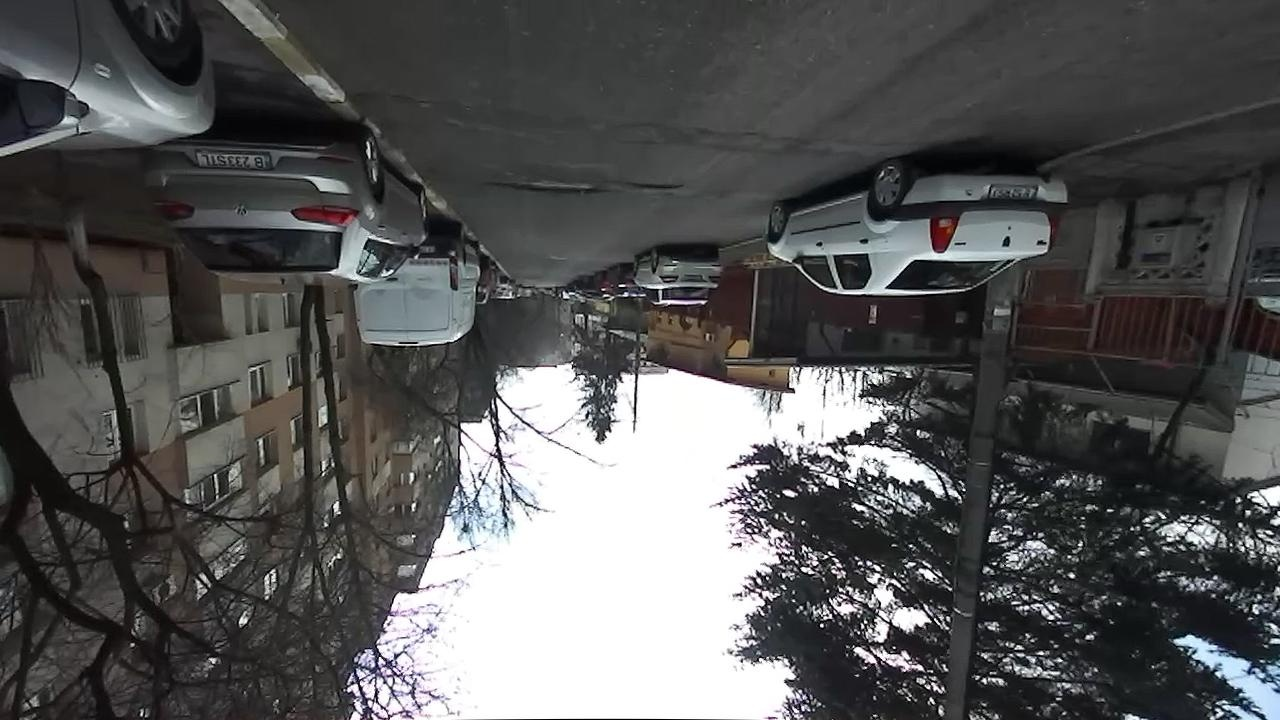pothole: (483, 174, 611, 195), (622, 179, 686, 193)
